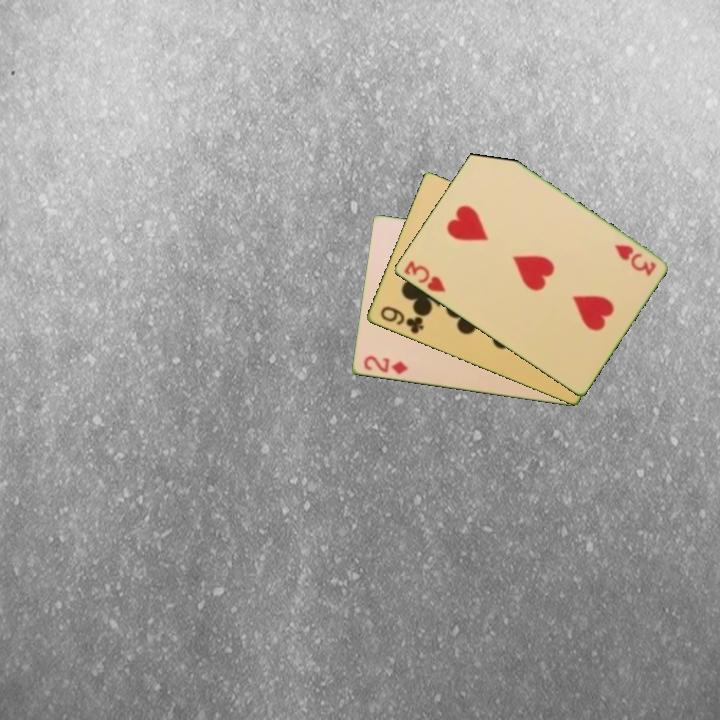2d: (360, 352, 411, 377)
3h: (610, 241, 659, 279), (400, 257, 448, 295)
9c: (376, 303, 427, 337)
